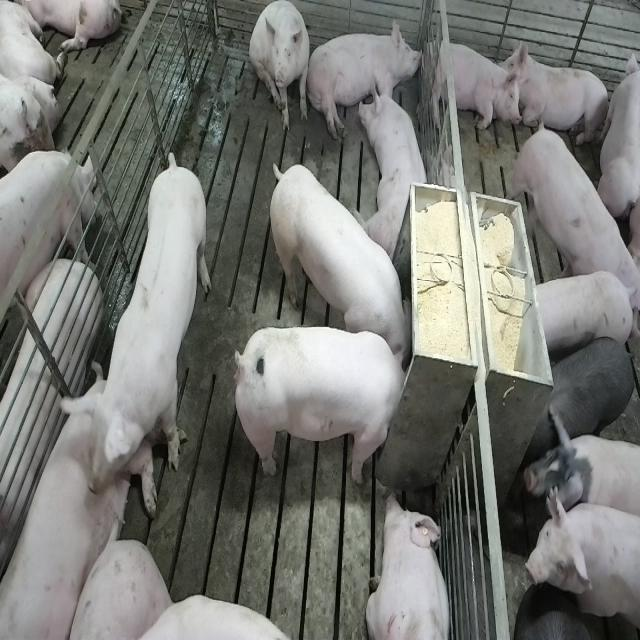Feeding: (265, 160, 412, 365), (239, 324, 416, 486)
Lateral_lying: (306, 16, 424, 142)
Sitting: (250, 1, 312, 135)
Standing: (57, 158, 210, 495), (510, 118, 639, 304), (0, 152, 96, 348), (522, 478, 638, 640), (521, 408, 637, 537), (540, 333, 636, 438), (531, 270, 636, 352)
Sternal_lying: (0, 384, 151, 635), (361, 70, 433, 260), (365, 490, 453, 640), (508, 41, 612, 150), (425, 35, 520, 136)
